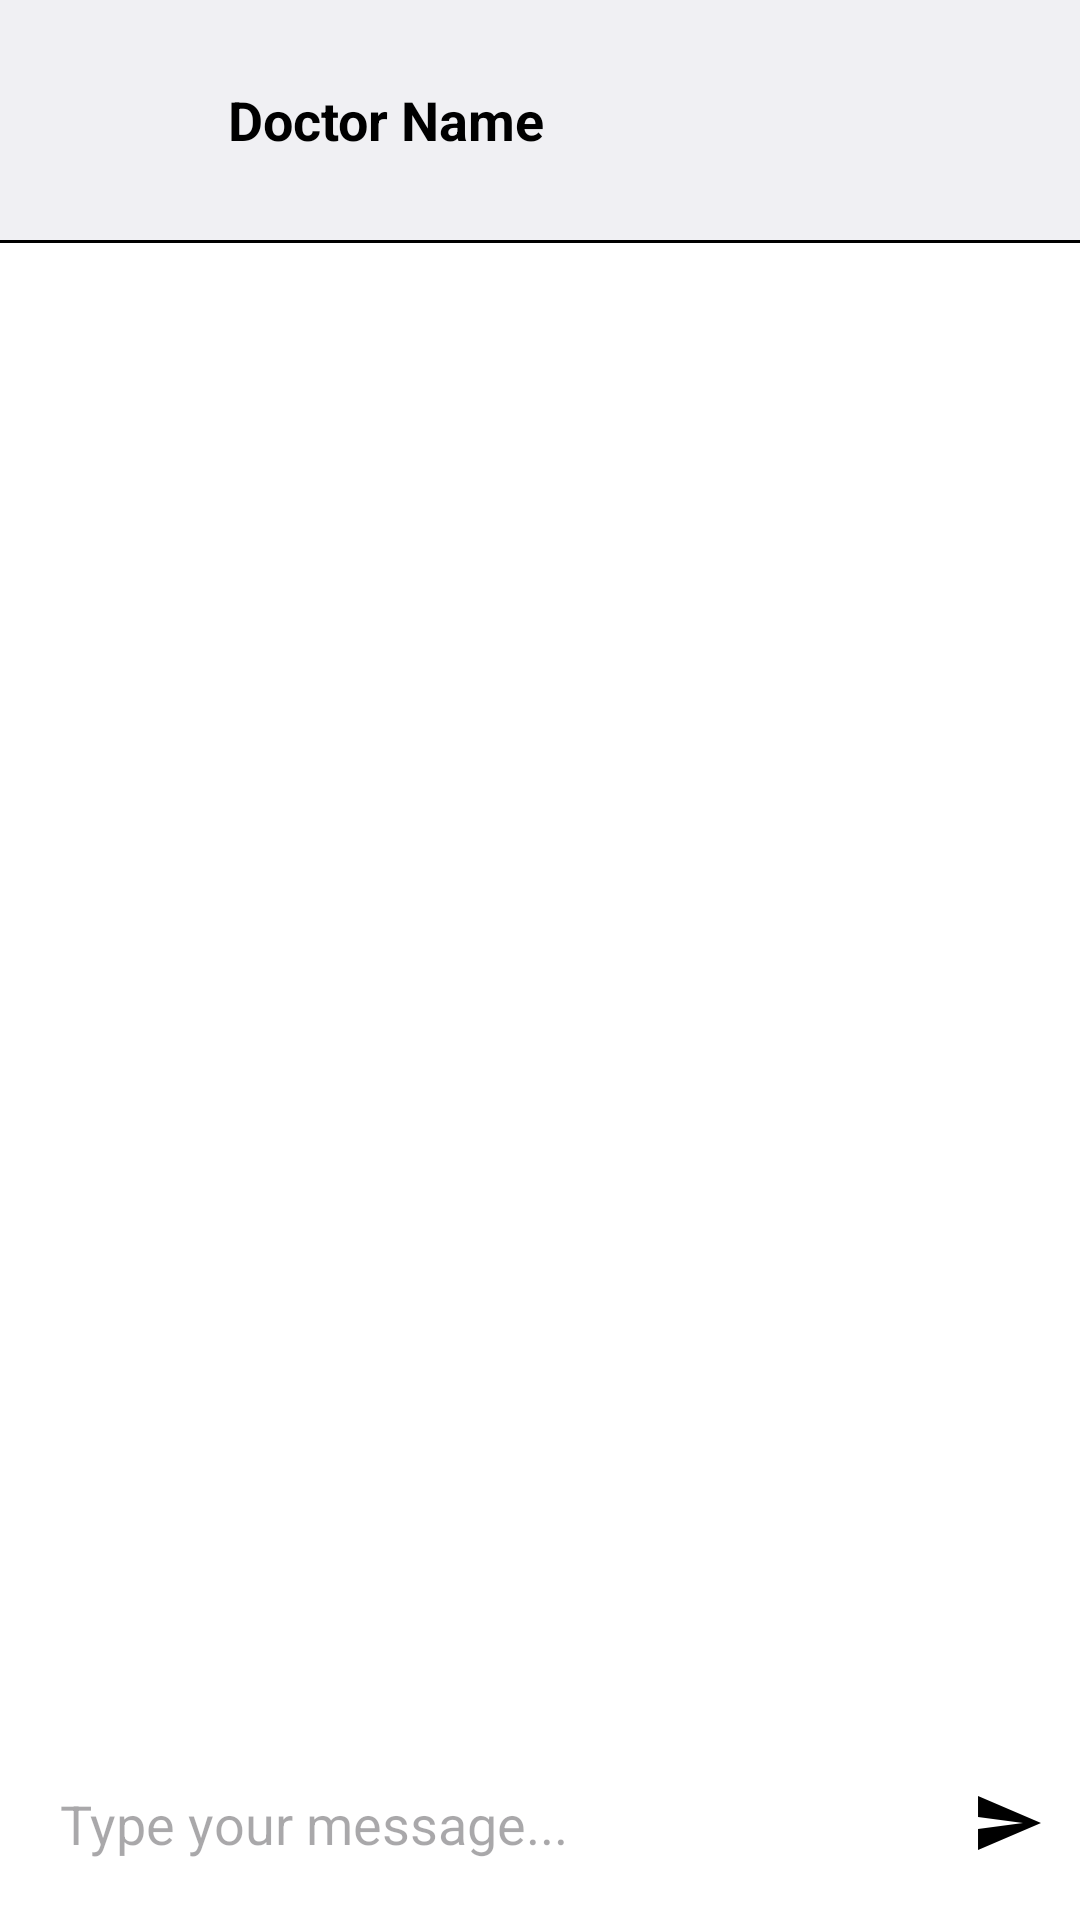

Icons on this 1080 × 1920 Android screen, each with its box as (x1, y1, x2, y2):
send: (978, 1796, 1041, 1850)
